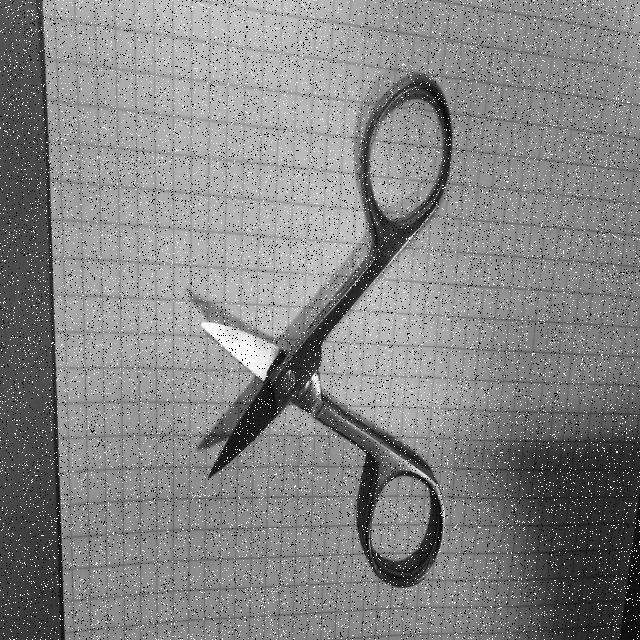scissors: (195, 68, 456, 594)
